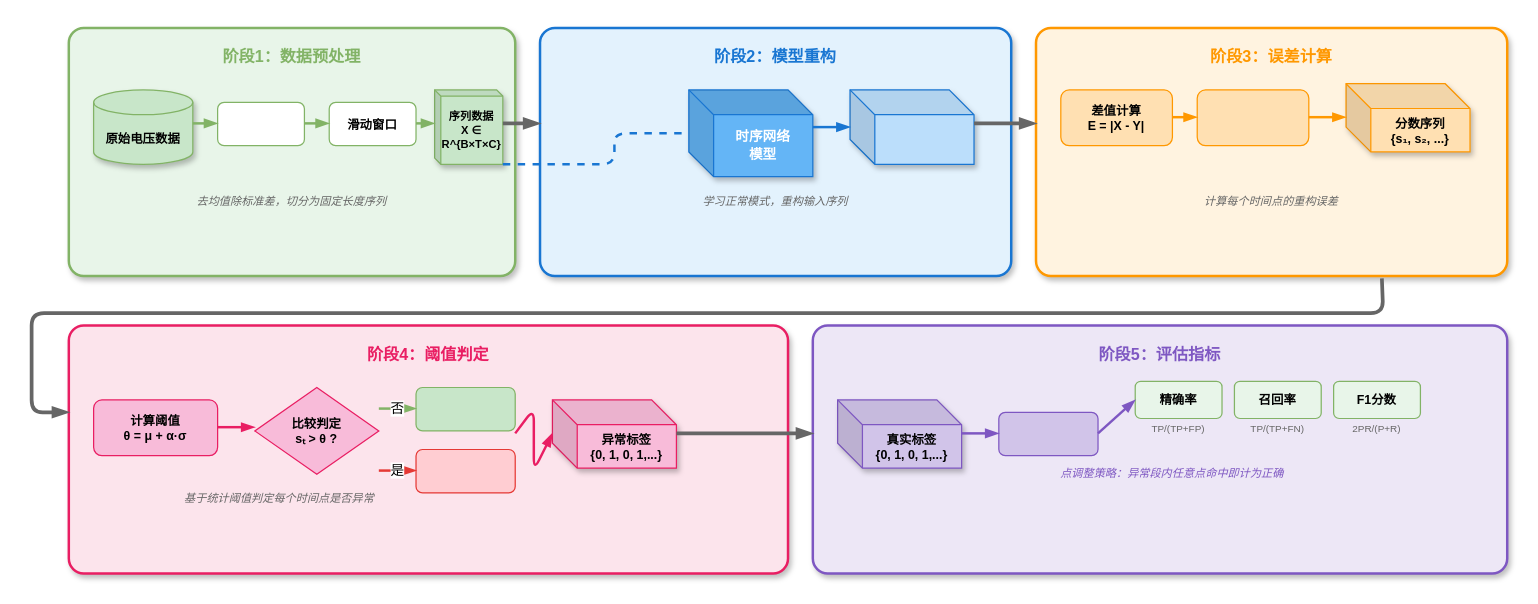
This 1538x604 diagram has some shape labels left out. The centre of each missing label's shape, as x and y in pixels:
对比计算: the point at 1048,433
异常: the point at 465,470
异常分数 S = mean(E): the point at 1252,117
标准化: the point at 260,123
正常: the point at 465,408
重构输出 Y ∈ R^{B×T×C}: the point at 912,128
